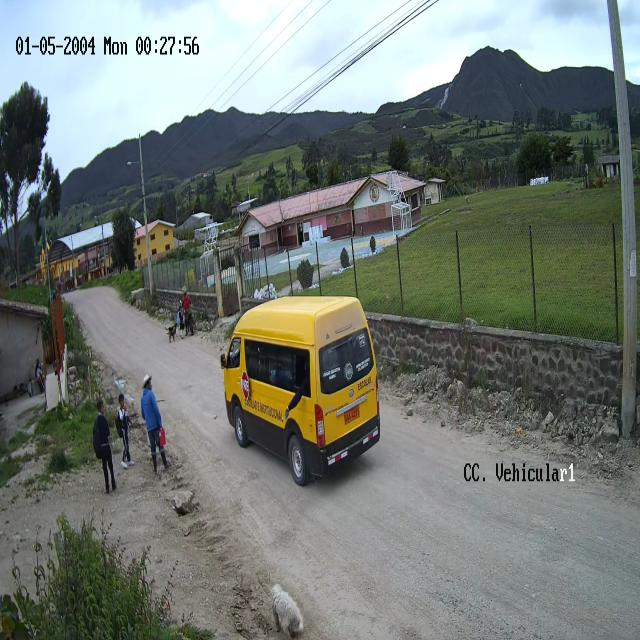BUS: (221, 295, 381, 487)
